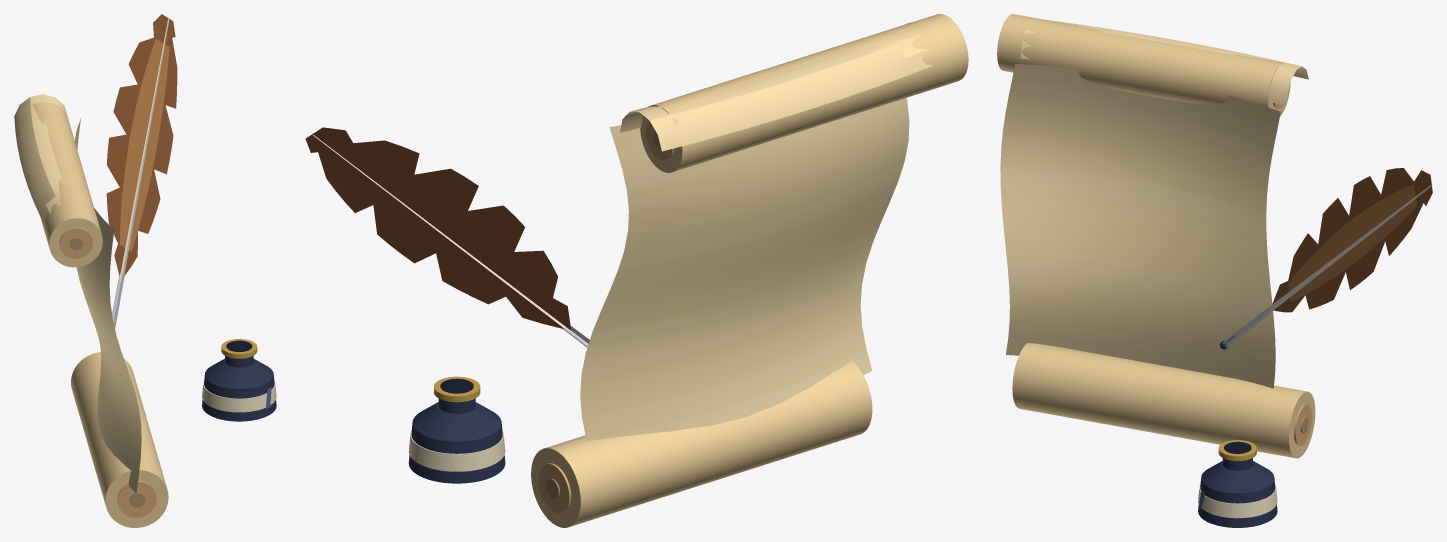
The model's file is scroll.glb.
3 views of the same model, side by side, from view 1: azimuth 30°, elevation 25°; view 2: azimuth 150°, elevation 25°; view 3: azimuth 270°, elevation 25° (orthographic). The views are drawn at different scales.
Parts seen in each view (by area): view 1: body, quill, inkwell; view 2: body, quill, inkwell; view 3: body, quill, inkwell.
Boxes of the visible parts, box(x1,y1,x2,y2) form: body: box(14, 94, 168, 527); quill: box(106, 14, 177, 328); inkwell: box(202, 339, 276, 421); body: box(531, 14, 968, 527); quill: box(305, 127, 589, 347); inkwell: box(408, 376, 505, 483); body: box(997, 14, 1315, 458); quill: box(1220, 168, 1432, 349); inkwell: box(1198, 440, 1277, 527).
Bounding box in the file's own units: 2.35 × 2.3 × 2.57.
